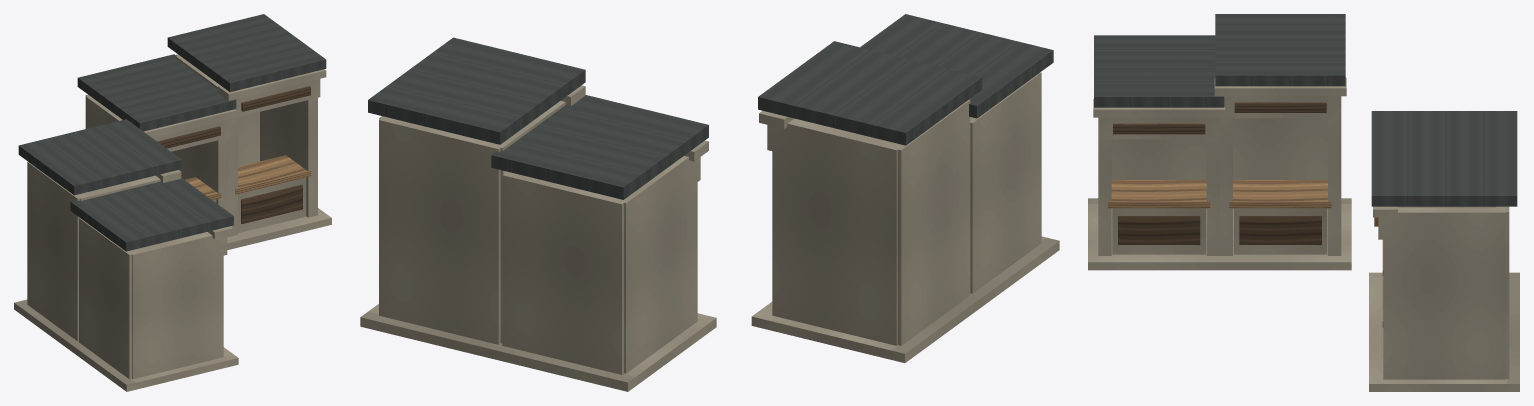
The model's file is bishkek.glb.
The picture shows the model from 3 angles, left to right: view 1: azimuth 30°, elevation 25°; view 2: azimuth 150°, elevation 25°; view 3: azimuth 270°, elevation 25°; orthographic projection. The views are drawn at different scales.
Parts seen in each view (by area): view 1: bishkek; view 2: bishkek; view 3: bishkek.
Boxes of the visible parts, box(x1,y1,x2,y2) form: bishkek: box(14, 14, 331, 391); bishkek: box(360, 14, 1059, 391); bishkek: box(1088, 14, 1519, 391).
Size of the model in its own units: 5.14 by 2.5 by 5.06.
1 material, 1 textured.
